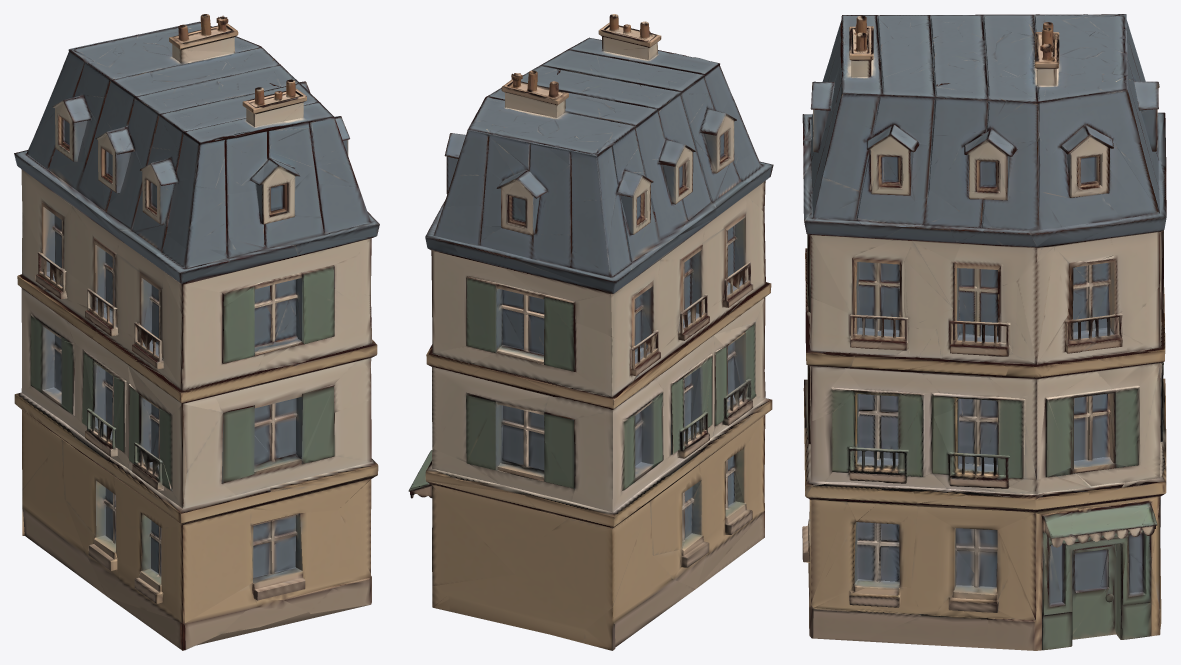
Rendered from building3-optimized.glb.
3 views of the same model, side by side, from view 1: azimuth 30°, elevation 25°; view 2: azimuth 150°, elevation 25°; view 3: azimuth 270°, elevation 25° (orthographic). The views are drawn at different scales.
Visible parts, largest first — view 1: output_unwrapped; view 2: output_unwrapped; view 3: output_unwrapped.
Part boxes in pixels (x1,y1,x2,y2): output_unwrapped: [14, 14, 379, 650]; output_unwrapped: [408, 14, 773, 650]; output_unwrapped: [802, 14, 1166, 650].
Size of the model in its own units: 0.9615 by 2 by 1.14.
Materials: 1 (1 with a texture image).
